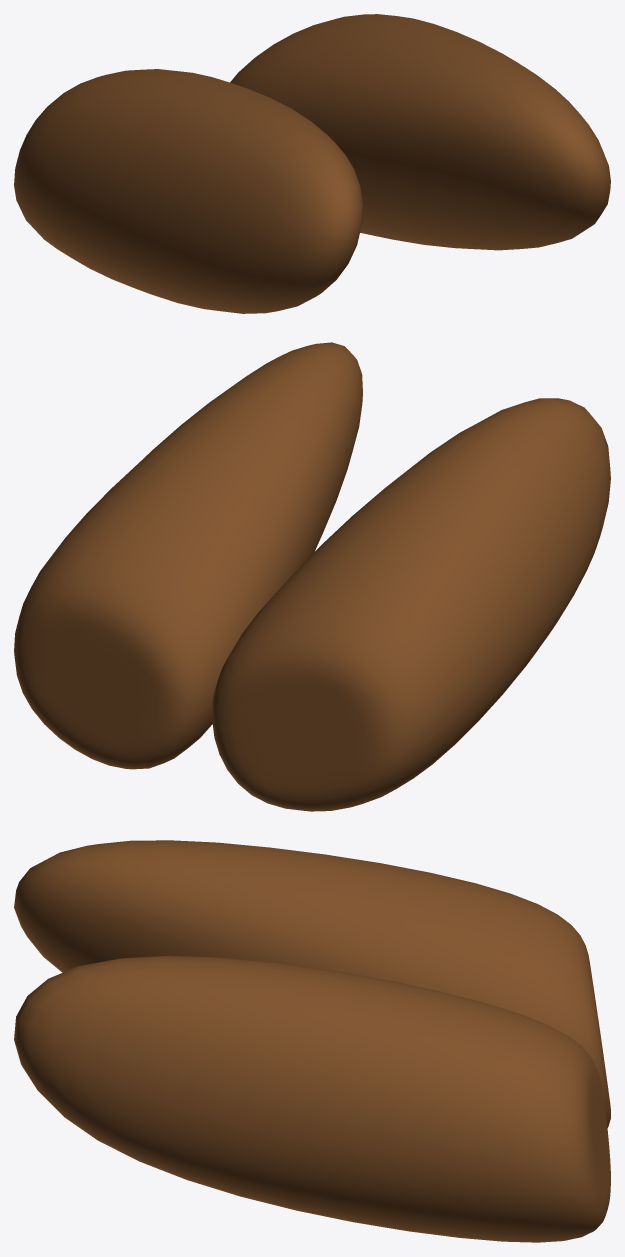
Rendered from gambe.fbx.
3 views of the same model, one above another, from view 1: azimuth 30°, elevation 25°; view 2: azimuth 150°, elevation 25°; view 3: azimuth 270°, elevation 25° (orthographic). The views are drawn at different scales.
Visible parts, largest first — view 1: Cube.006; view 2: Cube.006; view 3: Cube.006.
Part boxes in pixels (x1,y1,x2,y2): Cube.006: [14, 14, 610, 313]; Cube.006: [14, 342, 610, 811]; Cube.006: [14, 840, 610, 1242].
Size of the model in its own units: 104 by 58.75 by 117.
